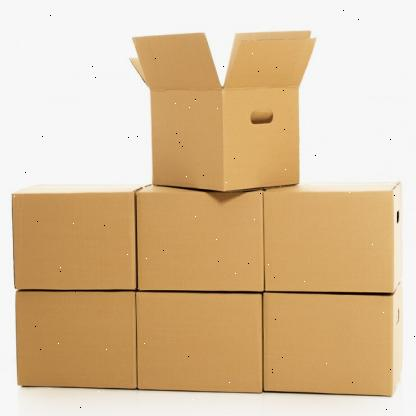box: (264, 292, 394, 398), (265, 187, 394, 293), (138, 189, 265, 293), (136, 291, 263, 394), (9, 191, 136, 291), (13, 290, 138, 390), (150, 89, 224, 191)
